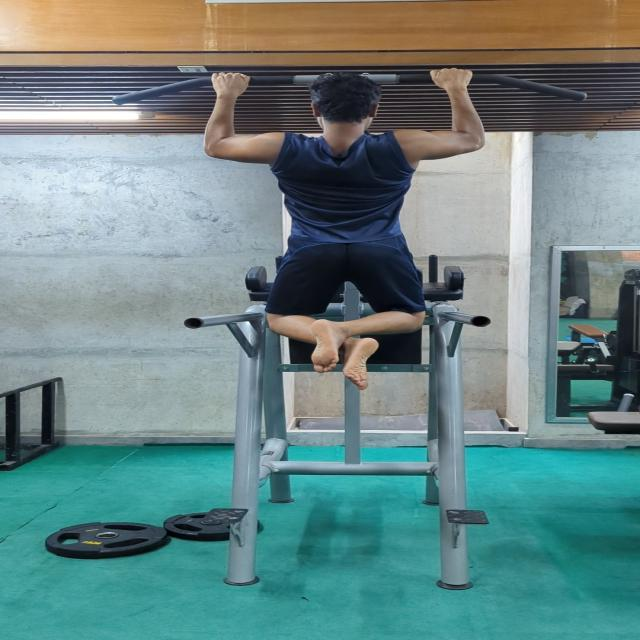Normal_PullUps: (194, 66, 490, 392)
